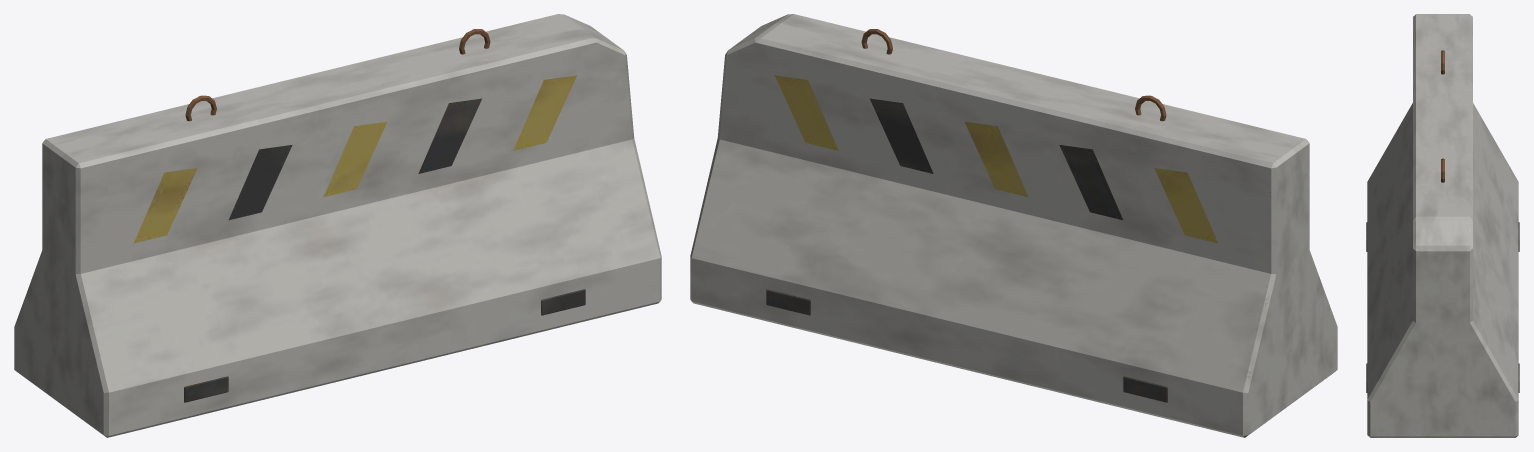
The model's file is CS04_concrete_barriers_v1.glb.
3 views of the same model, side by side, from view 1: azimuth 30°, elevation 25°; view 2: azimuth 150°, elevation 25°; view 3: azimuth 270°, elevation 25° (orthographic). The views are drawn at different scales.
Parts seen in each view (by area): view 1: Cast Jersey barrier; view 2: Cast Jersey barrier; view 3: Cast Jersey barrier.
Boxes of the visible parts, x1=… form: Cast Jersey barrier: x1=14, y1=14, x2=661, y2=437; Cast Jersey barrier: x1=690, y1=14, x2=1337, y2=437; Cast Jersey barrier: x1=1366, y1=14, x2=1519, y2=437.
Size of the model in its own units: 2 by 0.943 by 0.5874.
Materials: 4 (4 with a texture image).
